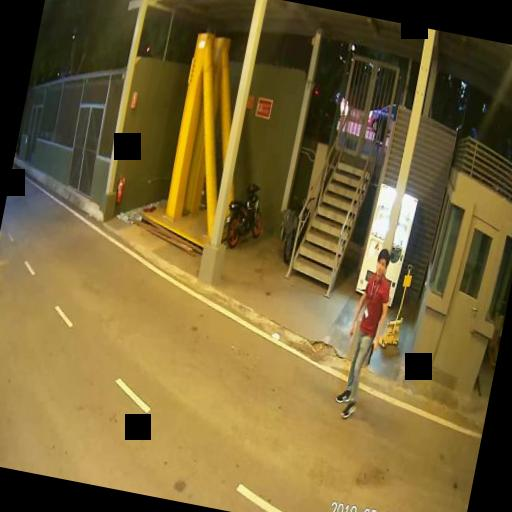Handgun: (366, 338, 378, 364)
